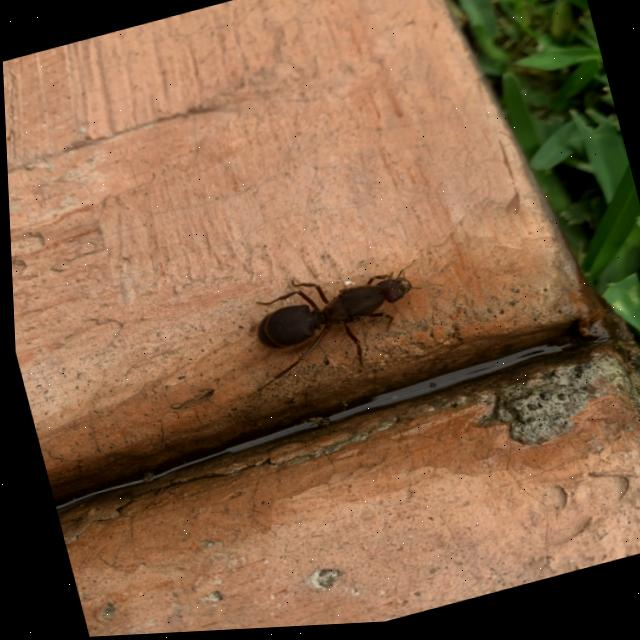Alive-Female-Dealate: (228, 246, 455, 396)
